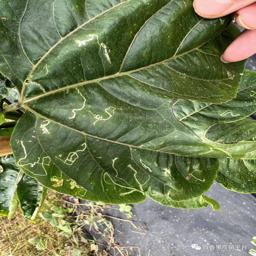liriomyza: (103, 157, 152, 196), (16, 139, 51, 176), (73, 32, 112, 65), (50, 175, 87, 198), (54, 142, 87, 166), (67, 86, 87, 120), (91, 106, 123, 126), (38, 119, 52, 136), (218, 108, 241, 118), (160, 165, 172, 177)
